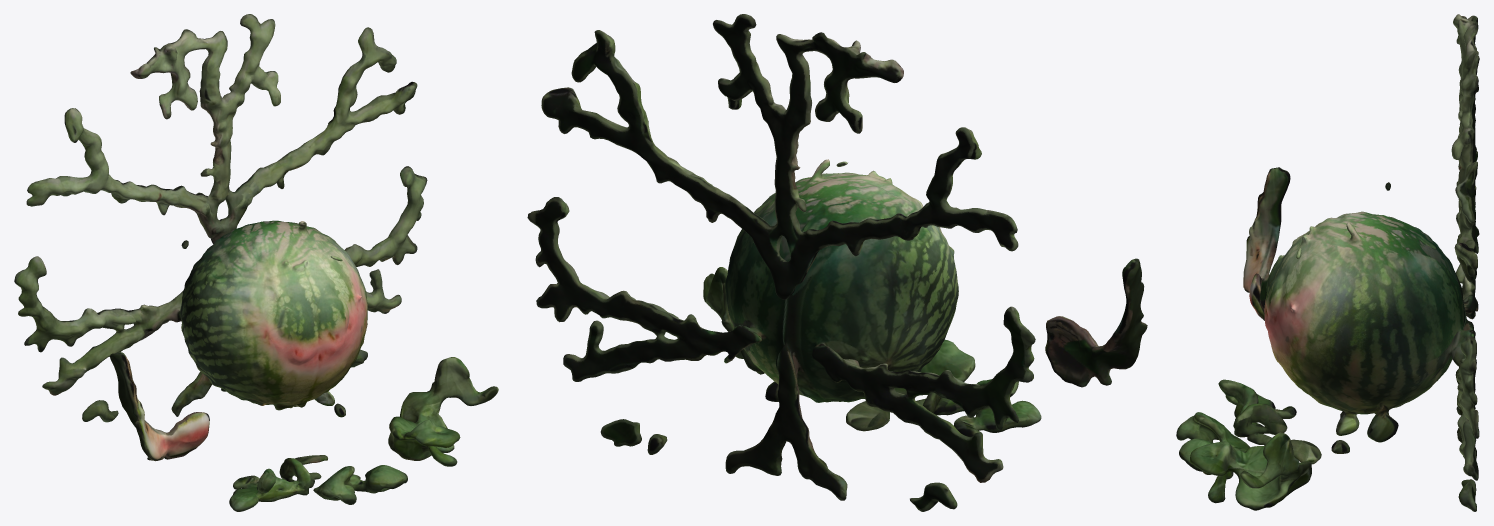
File: creeper0023.gltf
The picture shows the model from 3 angles, left to right: view 1: azimuth 30°, elevation 25°; view 2: azimuth 150°, elevation 25°; view 3: azimuth 270°, elevation 25°; orthographic projection. The views are drawn at different scales.
Visible parts, largest first — view 1: Mesh_0.001; view 2: Mesh_0.001; view 3: Mesh_0.001.
Boxes of the visible parts, x1,y1,x2,y2 form: Mesh_0.001: (14, 14, 498, 511); Mesh_0.001: (527, 14, 1147, 511); Mesh_0.001: (1176, 14, 1479, 511).
Size of the model in its own units: 2 by 1.8 by 1.2.
Materials: 1 (1 with a texture image).
